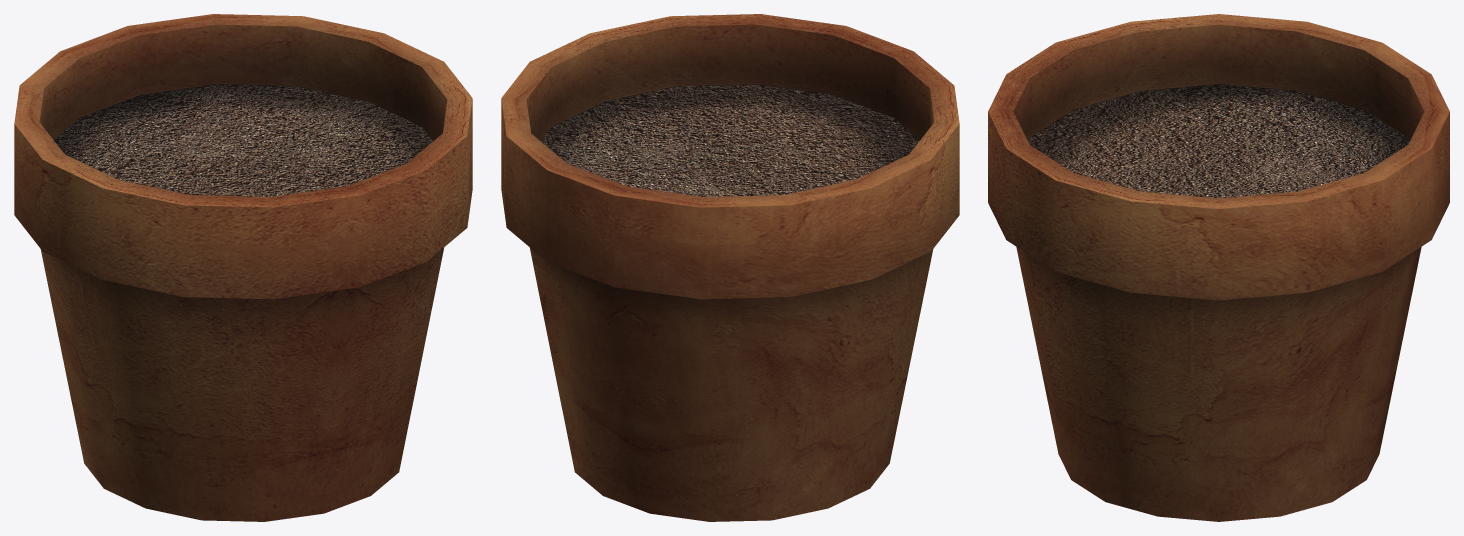
The picture shows the model from 3 angles, left to right: view 1: azimuth 30°, elevation 25°; view 2: azimuth 150°, elevation 25°; view 3: azimuth 270°, elevation 25°; orthographic projection.
Visible parts, largest first — view 1: _Platpot_H; view 2: _Platpot_H; view 3: _Platpot_H.
Boxes of the visible parts, x1,y1,x2,y2 form: _Platpot_H: (14, 14, 472, 521); _Platpot_H: (501, 14, 959, 521); _Platpot_H: (988, 14, 1449, 521).
Size of the model in its own units: 202 by 166 by 202.
